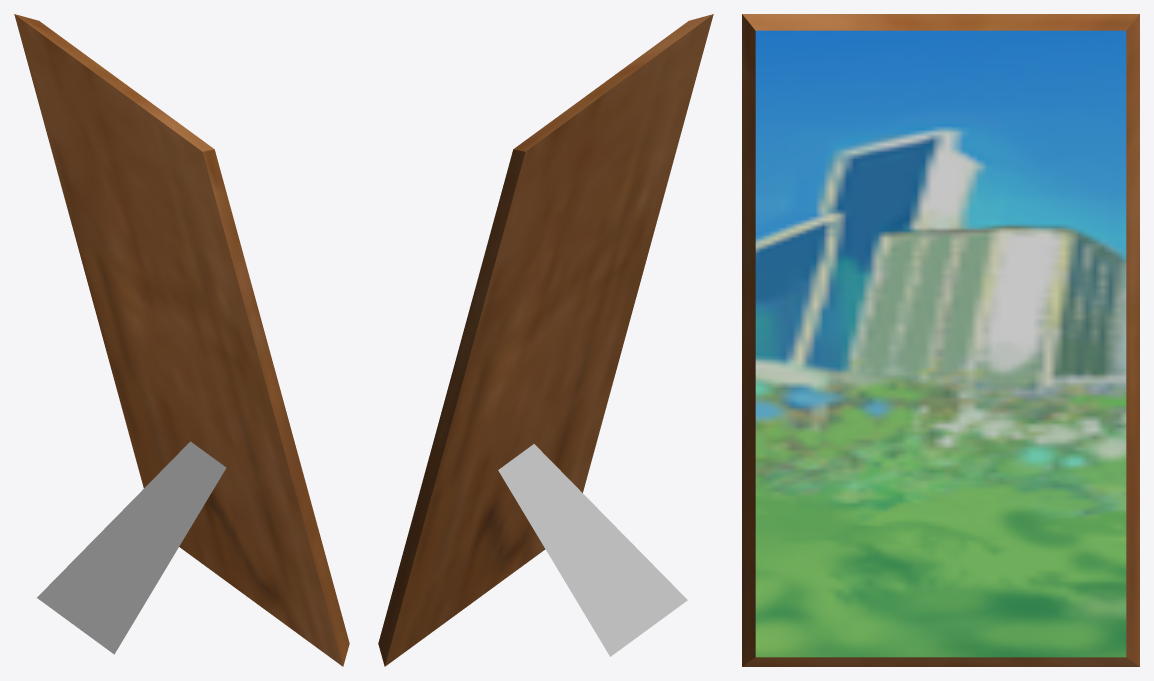
File: M_Home_Garden_Photoframe_04.fbx
3 renders of one model, left to right at view 1: azimuth 30°, elevation 25°; view 2: azimuth 150°, elevation 25°; view 3: azimuth 270°, elevation 25°, orthographic. The views are drawn at different scales.
Visible parts, largest first — view 1: M_Home_Garden_Photoframe_04; view 2: M_Home_Garden_Photoframe_04; view 3: M_Home_Garden_Photoframe_04.
Boxes of the visible parts, x1=… form: M_Home_Garden_Photoframe_04: x1=14, y1=14, x2=349, y2=666; M_Home_Garden_Photoframe_04: x1=378, y1=14, x2=713, y2=666; M_Home_Garden_Photoframe_04: x1=742, y1=14, x2=1139, y2=666.
Bounding box in the file's own units: 13.18 × 37.45 × 23.26.
